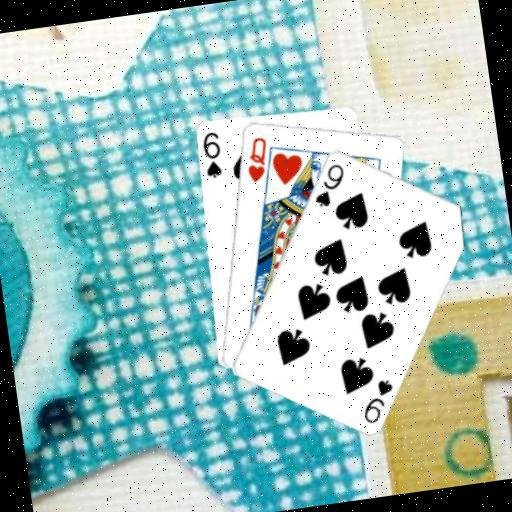6S: (198, 128, 226, 181)
9S: (355, 375, 399, 426), (307, 159, 350, 210)
QH: (239, 133, 273, 185)
